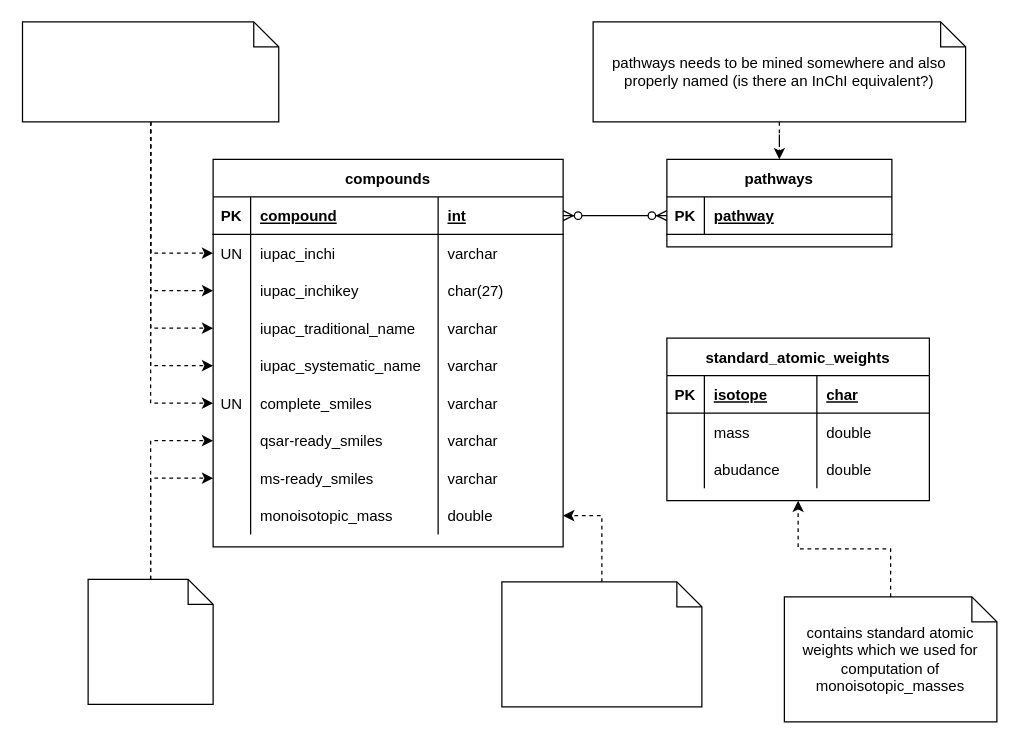
This 1019x744 diagram has some shape labels left out. The box of each missing label's shape, as (x1, y1, x2, y2) in pixels:
computed from complete_smiles: (87, 578, 213, 704)
computed from standard_atomic_weights table: (501, 581, 702, 707)
mined from Pubchem (optionally verified using Cactvs): (21, 21, 279, 122)
